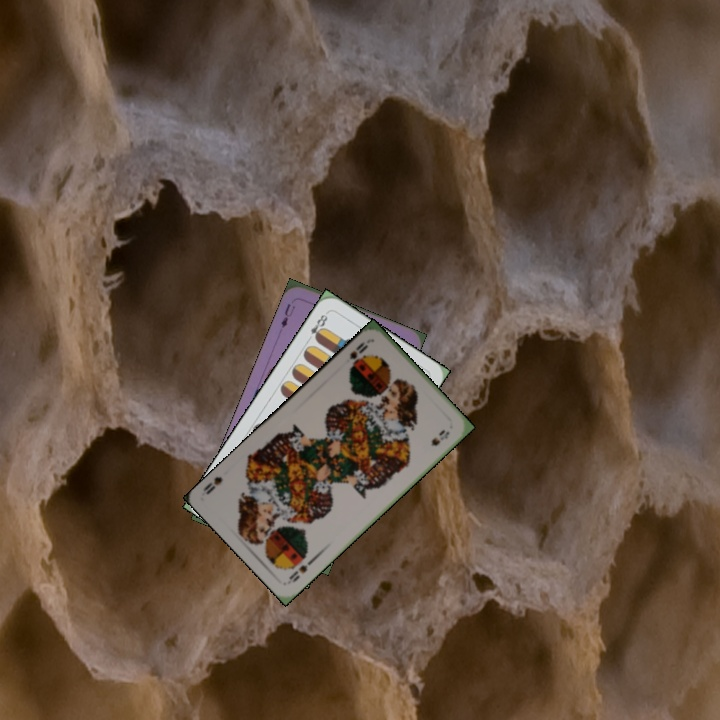E8: (303, 308, 331, 344)
EU: (277, 300, 298, 330)
SO: (285, 554, 317, 585), (345, 337, 371, 372)
